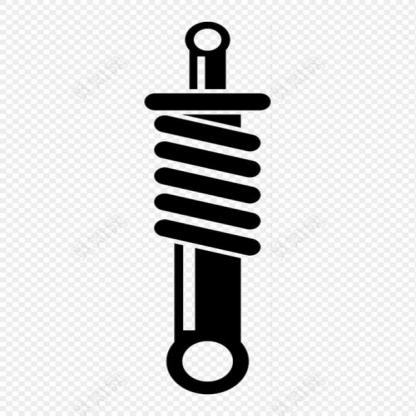FOD: (142, 18, 277, 397)
